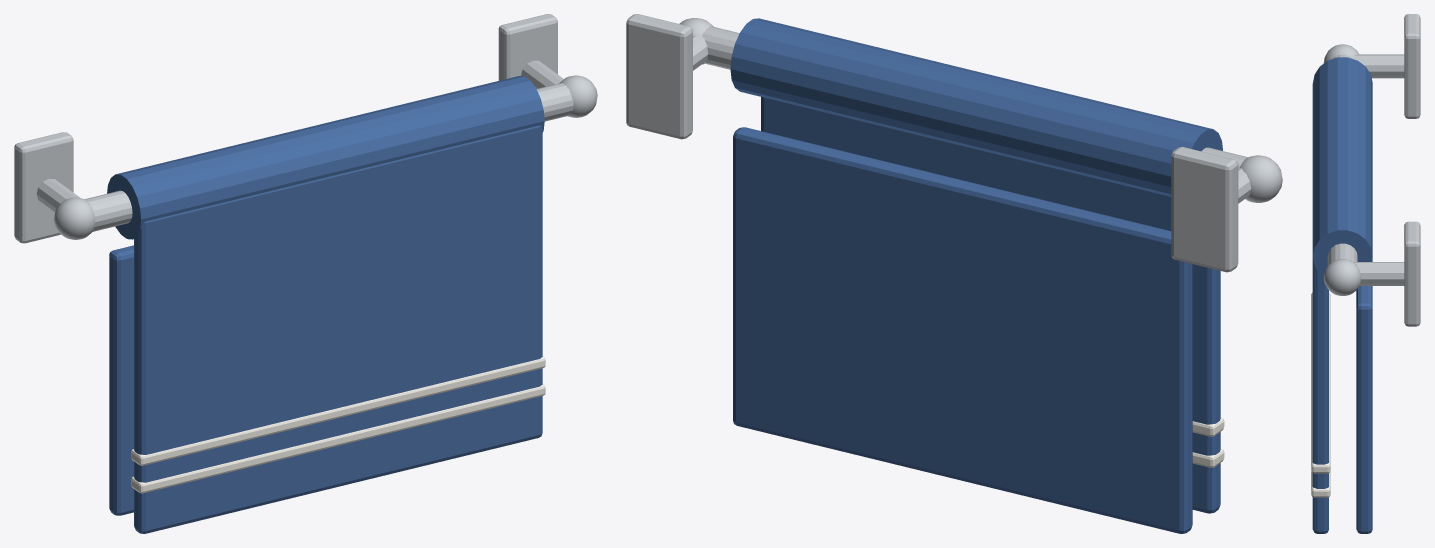
The model's file is hh_cat_towel_rail.glb.
3 renders of one model, left to right at view 1: azimuth 30°, elevation 25°; view 2: azimuth 150°, elevation 25°; view 3: azimuth 270°, elevation 25°, orthographic. The views are drawn at different scales.
Visible parts, largest first — view 1: towel, towel_fold, towel.001, bracket, stripe.001, stripe, bracket.001, rail, end_cap, end_cap.001, arm, arm.001; view 2: towel.001, towel_fold, towel, bracket, bracket.001, end_cap, rail; view 3: towel_fold, towel, towel.001, bracket.001, bracket, end_cap.001, arm.001, arm, stripe.001, rail, end_cap, stripe.
Boxes of the visible parts, x1=… form: towel: x1=134, y1=125, x2=542, y2=533; towel_fold: x1=107, y1=76, x2=544, y2=239; towel.001: x1=109, y1=245, x2=133, y2=515; bracket: x1=14, y1=132, x2=73, y2=243; stripe.001: x1=131, y1=356, x2=545, y2=465; stripe: x1=131, y1=384, x2=545, y2=493; bracket.001: x1=498, y1=14, x2=557, y2=80; rail: x1=85, y1=83, x2=573, y2=231; end_cap: x1=54, y1=197, x2=95, y2=239; end_cap.001: x1=559, y1=75, x2=597, y2=117; arm: x1=36, y1=178, x2=80, y2=212; arm.001: x1=521, y1=60, x2=563, y2=88; towel.001: x1=733, y1=127, x2=1192, y2=533; towel_fold: x1=730, y1=18, x2=1222, y2=196; towel: x1=761, y1=97, x2=1220, y2=513; bracket: x1=1171, y1=147, x2=1238, y2=272; bracket.001: x1=626, y1=14, x2=692, y2=139; end_cap: x1=1239, y1=155, x2=1282, y2=202; rail: x1=702, y1=26, x2=1247, y2=167; towel_fold: x1=1312, y1=57, x2=1372, y2=276; towel: x1=1312, y1=257, x2=1328, y2=533; towel.001: x1=1356, y1=258, x2=1372, y2=533; bracket.001: x1=1404, y1=221, x2=1420, y2=326; bracket: x1=1404, y1=14, x2=1420, y2=118; end_cap.001: x1=1323, y1=259, x2=1360, y2=295; arm.001: x1=1353, y1=262, x2=1404, y2=285; arm: x1=1352, y1=54, x2=1404, y2=78; stripe.001: x1=1311, y1=292, x2=1330, y2=473; rail: x1=1327, y1=54, x2=1357, y2=265; end_cap: x1=1323, y1=44, x2=1358, y2=63; stripe: x1=1311, y1=471, x2=1330, y2=497.
Size of the model in its own units: 0.4 by 0.26 by 0.08.
